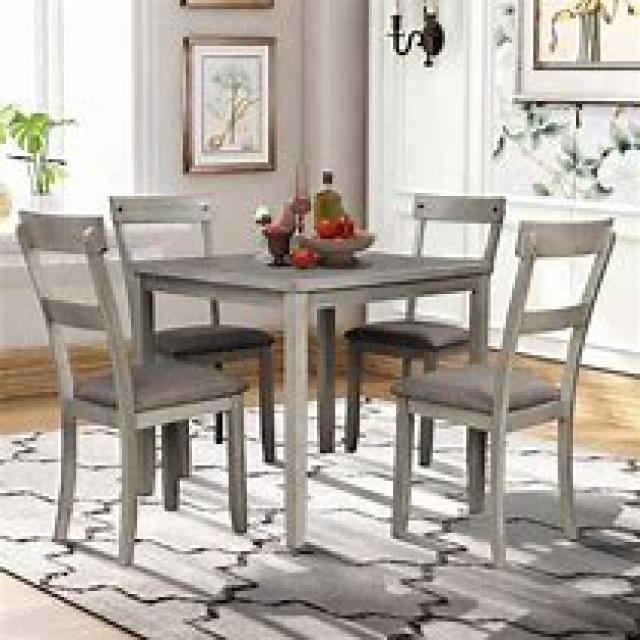chair: (12, 208, 247, 564), (387, 214, 616, 566), (107, 193, 277, 475), (341, 190, 506, 465)
table: (119, 245, 491, 551)
